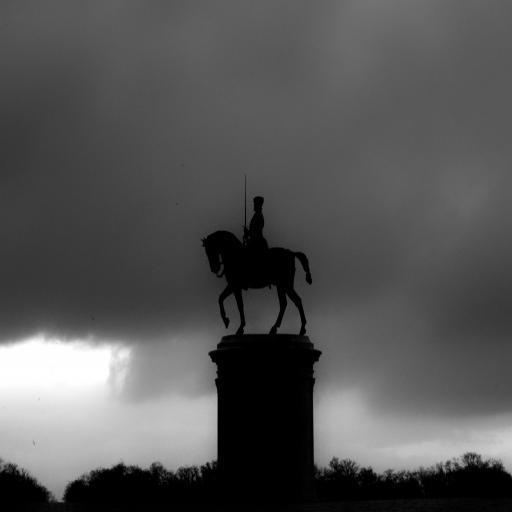horse: (200, 231, 312, 336)
